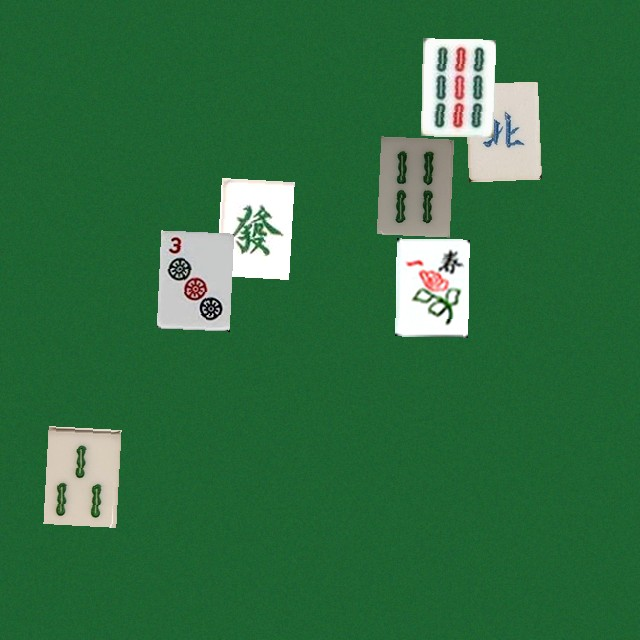tile: (395, 238, 468, 336), (464, 81, 537, 179), (376, 136, 449, 234), (43, 426, 116, 524), (216, 177, 289, 275), (156, 230, 229, 328), (420, 38, 493, 136)
